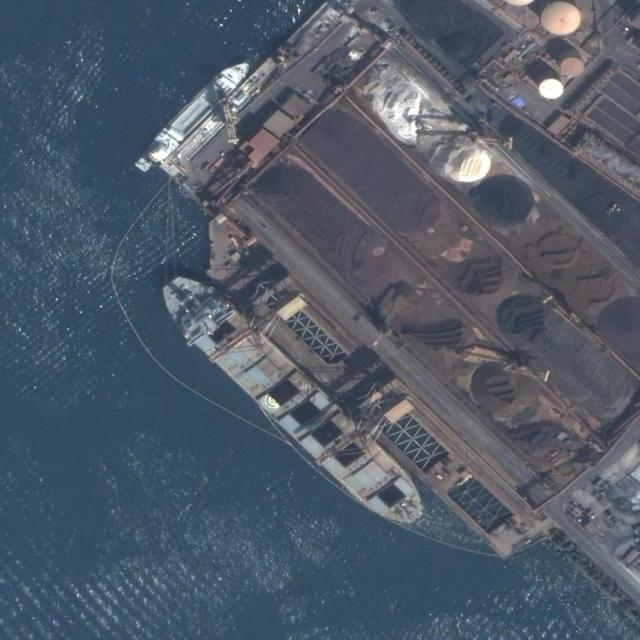Cargo: (145, 258, 439, 550)
Other Ship: (131, 50, 255, 178)
